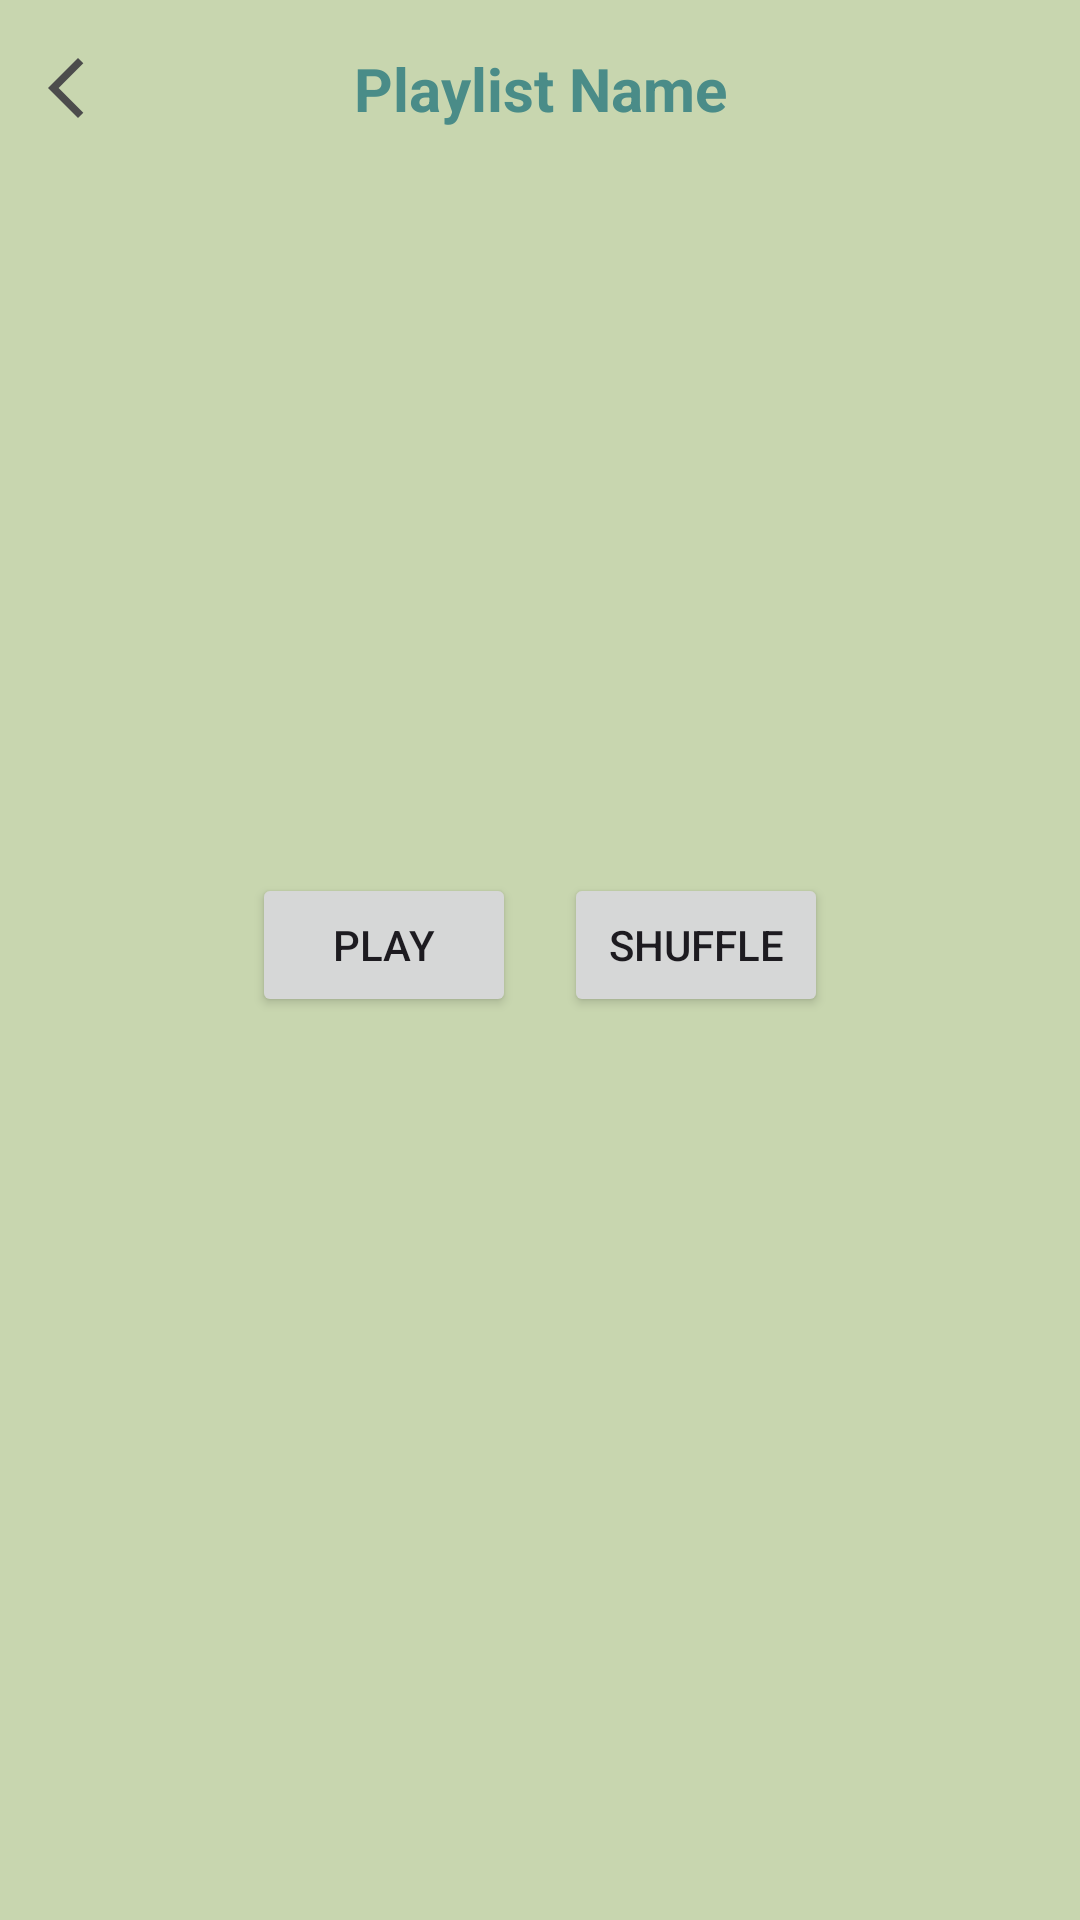

Where to tap for icons on this 1080px×1920px app screen, as [x,y]:
arrow back: [65,88]
